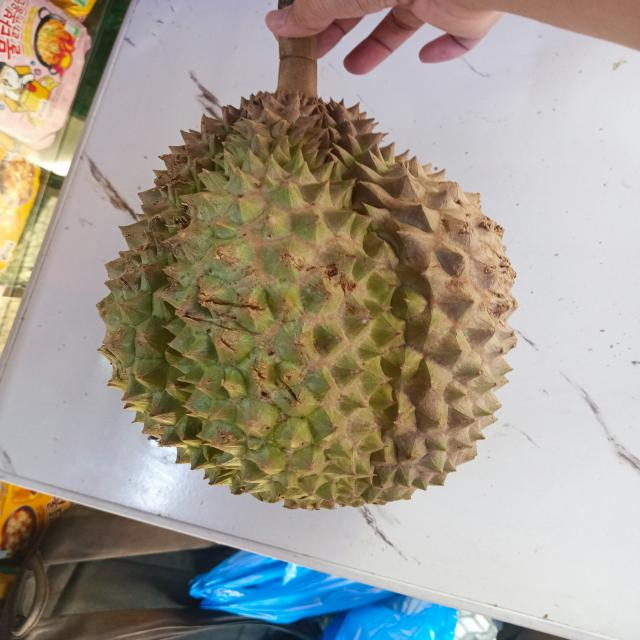mature: (95, 83, 490, 486)
